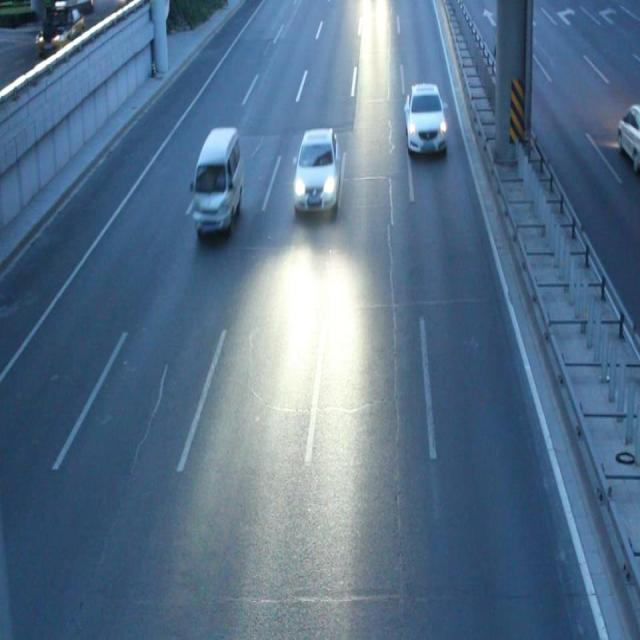car: (191, 126, 241, 236), (292, 128, 339, 212), (402, 82, 447, 153)
